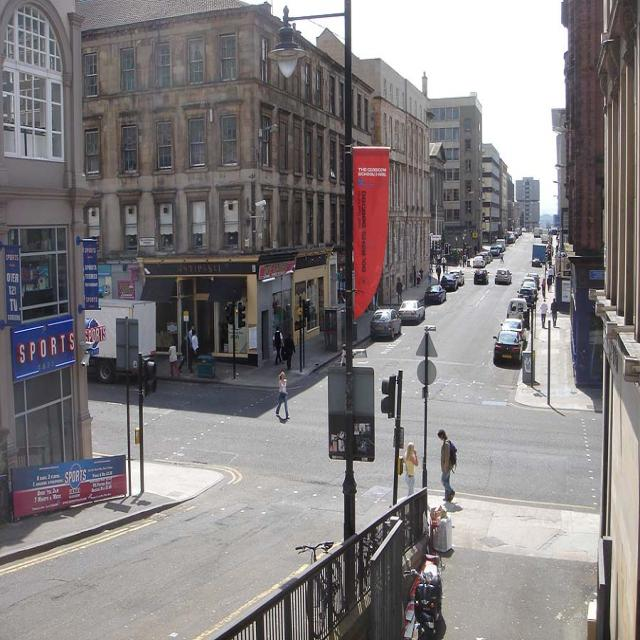body: (436, 427, 458, 502), (402, 440, 419, 497), (274, 370, 291, 420), (176, 331, 195, 374), (167, 340, 180, 380), (270, 300, 292, 322), (272, 325, 284, 365), (283, 333, 295, 371), (427, 249, 441, 273), (443, 500, 464, 515), (351, 423, 371, 437), (539, 298, 548, 329), (550, 297, 559, 328), (190, 329, 199, 356), (274, 412, 291, 425), (396, 278, 404, 304), (340, 342, 347, 367), (554, 227, 560, 256), (545, 274, 552, 293), (547, 264, 553, 286), (414, 272, 422, 288), (415, 270, 422, 288), (542, 324, 560, 331), (440, 254, 446, 274), (543, 290, 555, 300), (188, 324, 195, 340), (339, 290, 347, 304), (541, 277, 546, 297), (434, 271, 441, 285), (427, 268, 433, 284), (462, 252, 467, 268), (550, 264, 554, 284), (474, 269, 486, 275), (496, 269, 508, 275), (419, 266, 424, 280), (499, 251, 504, 265), (473, 243, 478, 256)
